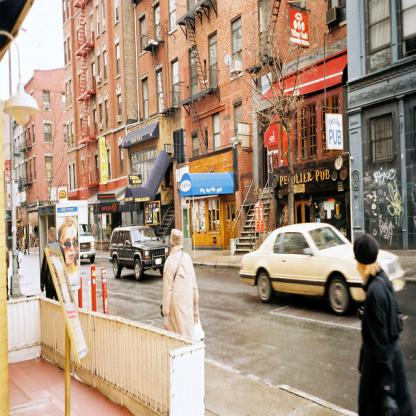Car: (239, 221, 407, 315), (110, 222, 169, 278)
